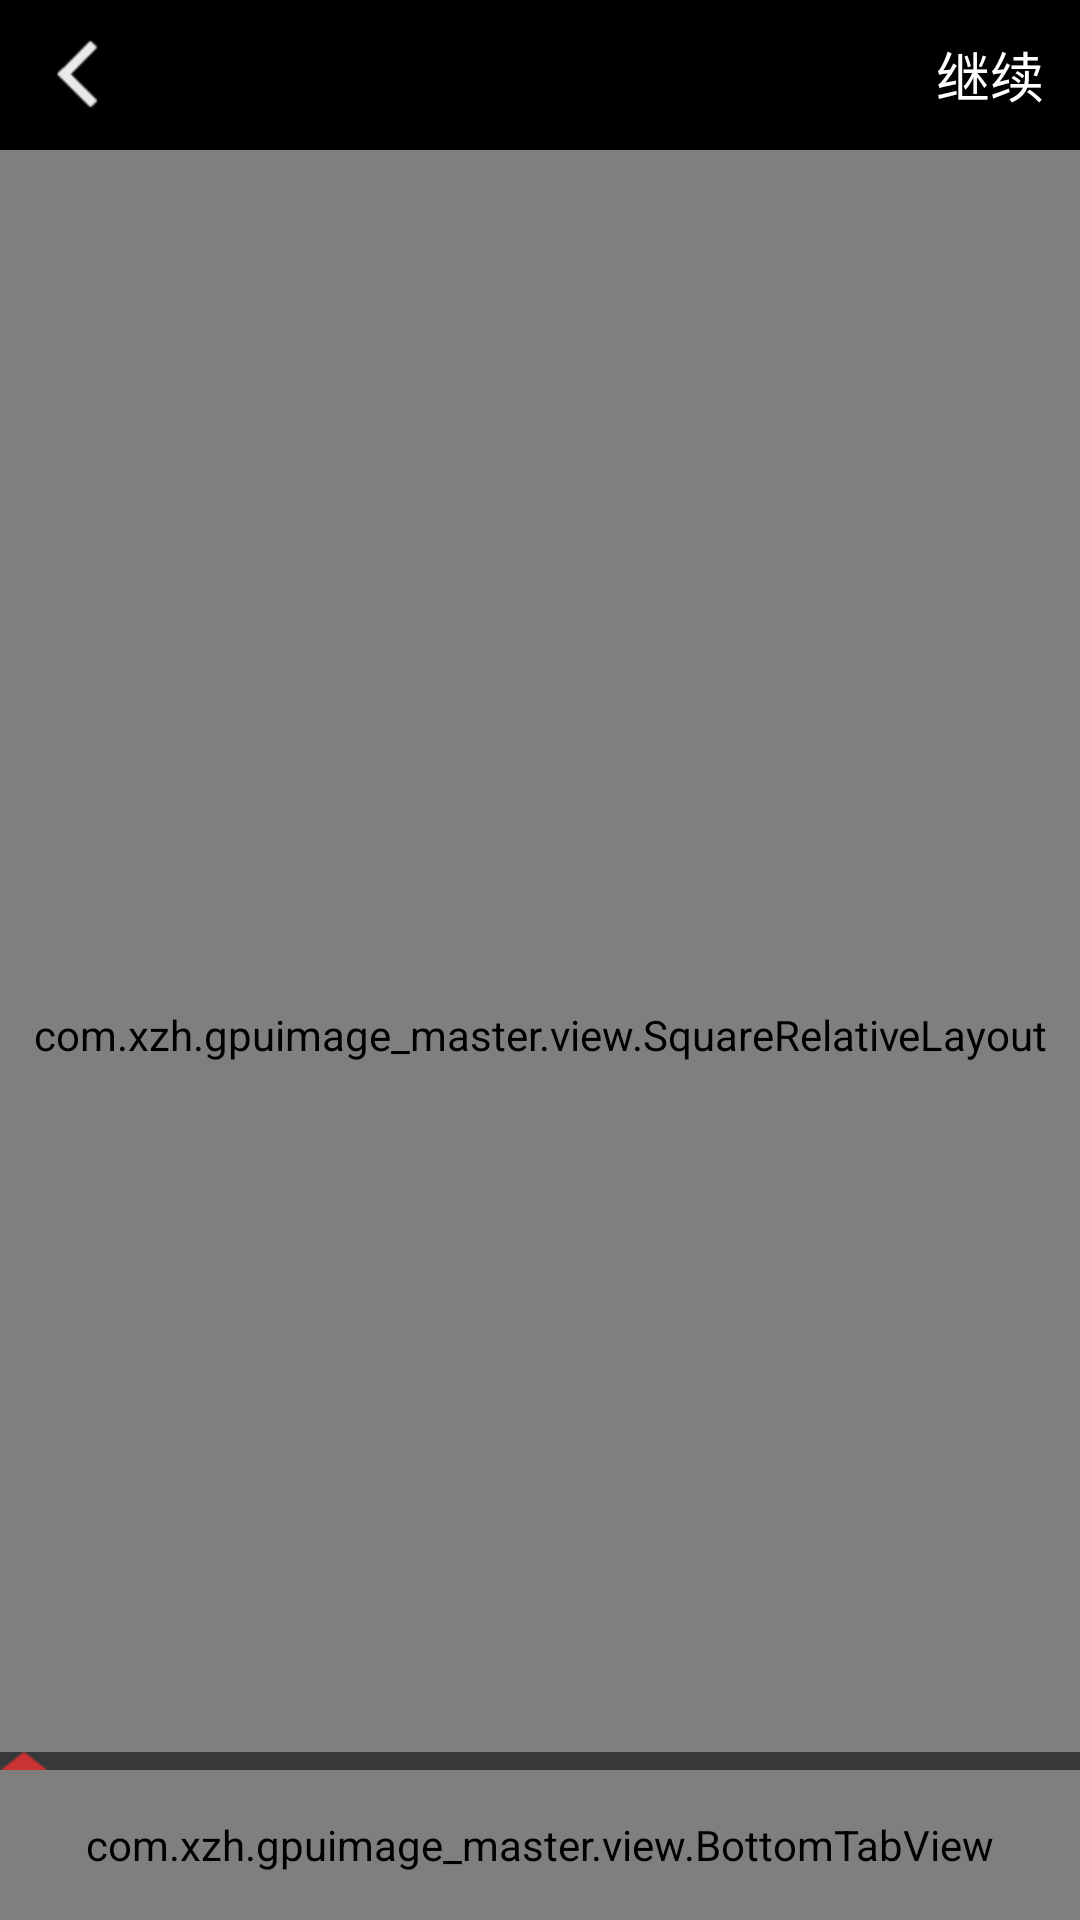

Named icons in this screenshot (1080*1920) and their centers, (x,y):
top back: (77,74)
